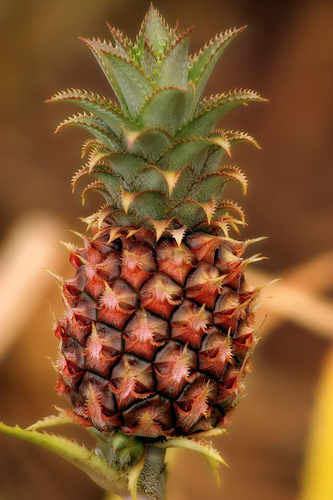pineapple: (42, 1, 272, 443)
